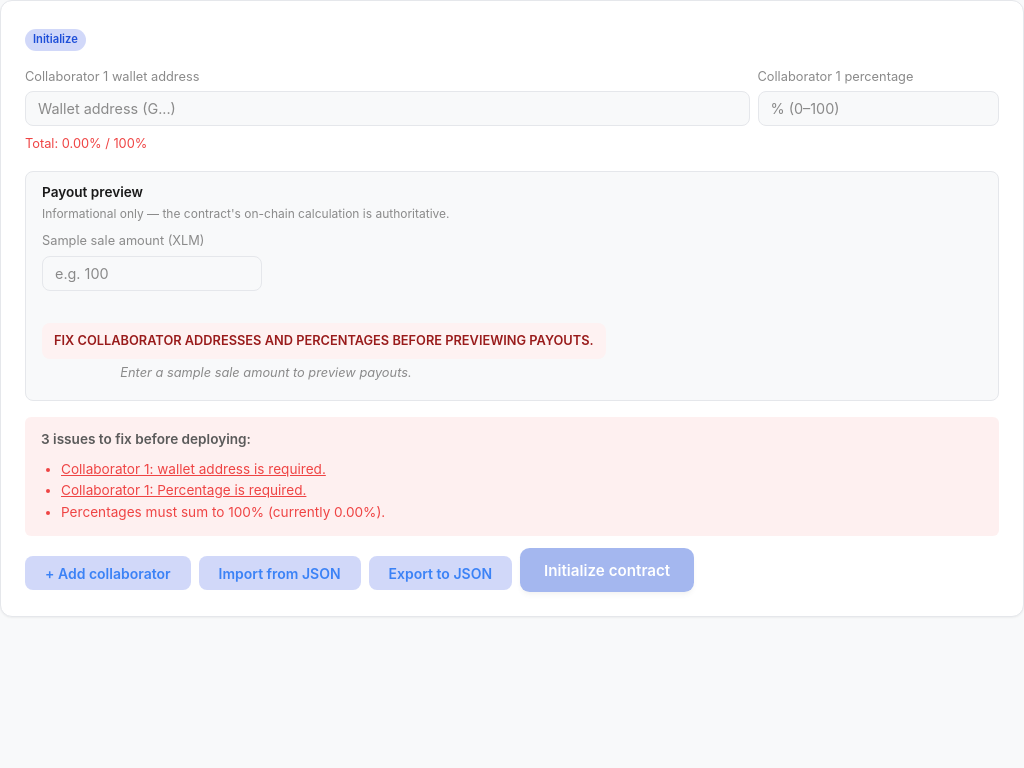
Scenario: InitializeForm — accessibility › remove button has an accessible aria-label naming the collaborator
Click the button labelled "+ Add collaborator" at (108, 573), box [25, 556, 191, 590]
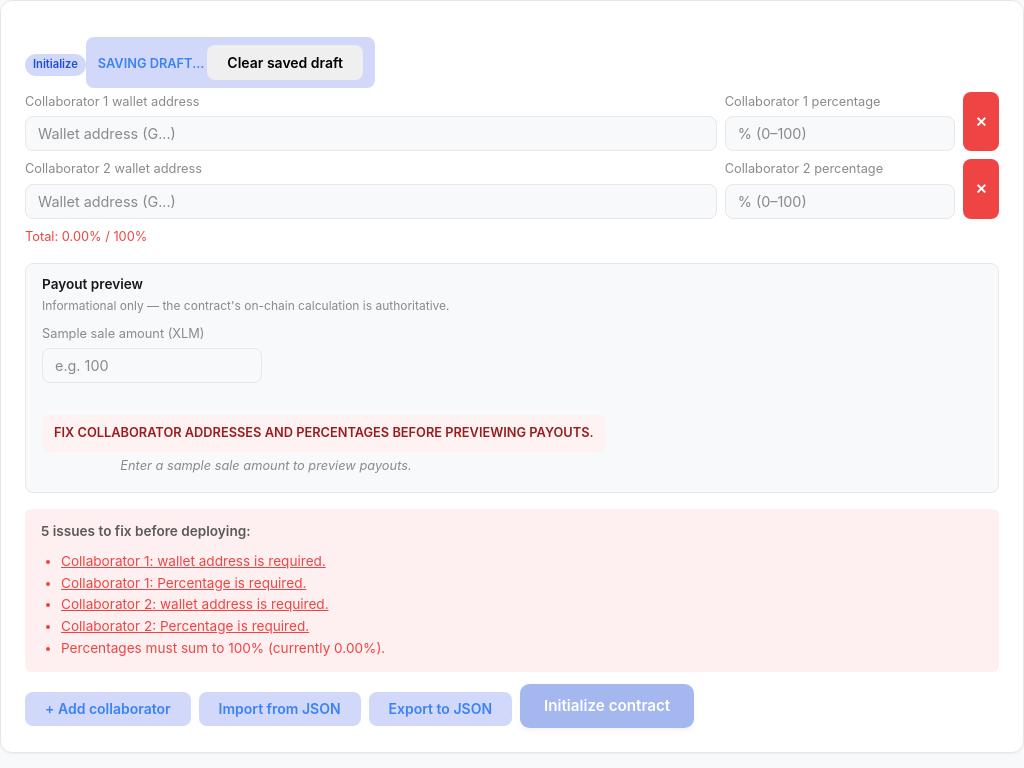
Check: the button named "Remove collaborator 1" is shown, box [963, 92, 999, 151]
